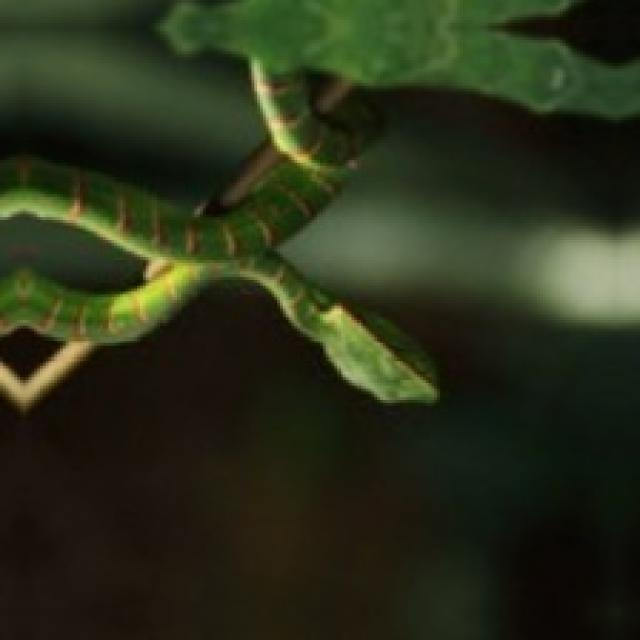north ph temple pitviper: (0, 60, 436, 404)
